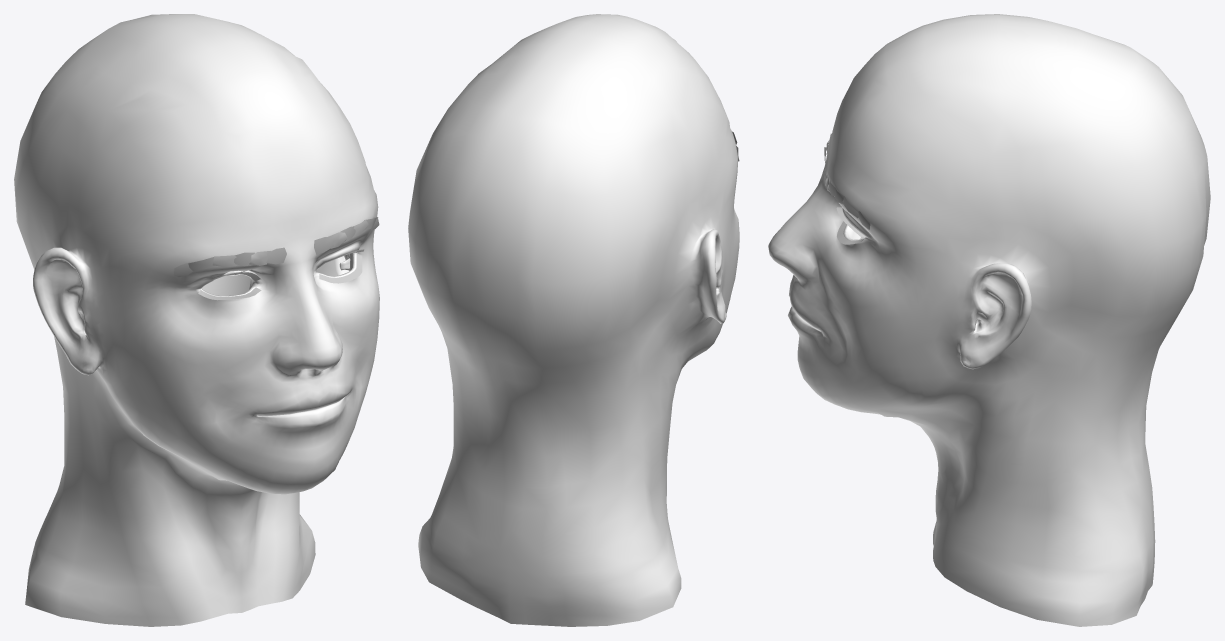
File: eyeLookUpRight.obj
3 renders of one model, left to right at view 1: azimuth 30°, elevation 25°; view 2: azimuth 150°, elevation 25°; view 3: azimuth 270°, elevation 25°, orthographic. The views are drawn at different scales.
Parts seen in each view (by area): view 1: FaceMesh_Plane.003; view 2: FaceMesh_Plane.003; view 3: FaceMesh_Plane.003.
Boxes of the visible parts, x1,y1,x2,y2 form: FaceMesh_Plane.003: [14, 14, 379, 626]; FaceMesh_Plane.003: [408, 14, 739, 626]; FaceMesh_Plane.003: [768, 14, 1210, 626].
Bounding box in the file's own units: 1.54 × 2.71 × 1.94.
5 materials, 1 textured.
